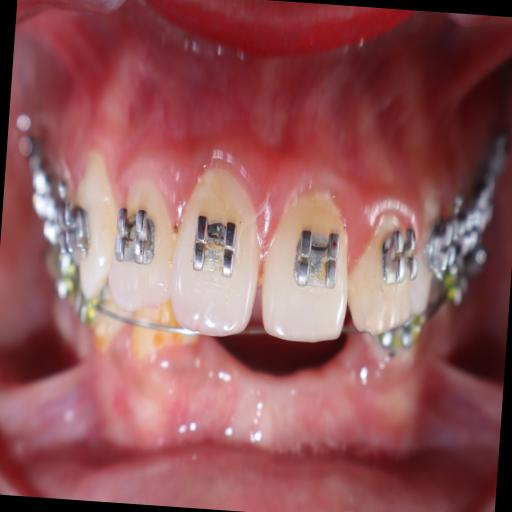correct_brace: (286, 216, 344, 296), (187, 206, 245, 272), (110, 201, 158, 275), (380, 220, 427, 292)
incorrect_brace: (106, 172, 178, 316), (342, 212, 399, 344)
